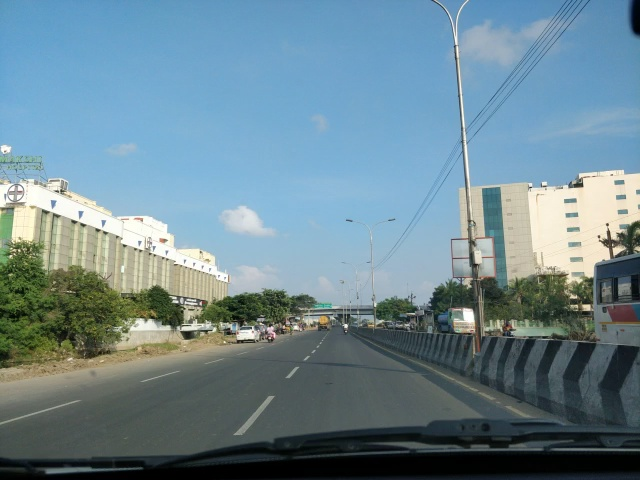bus: (589, 251, 635, 343)
car: (231, 319, 266, 349), (395, 319, 412, 332)
motorbike: (497, 315, 521, 341), (264, 321, 282, 345), (340, 318, 354, 341), (288, 322, 296, 337)
truck: (435, 308, 479, 335), (314, 312, 334, 336), (364, 319, 377, 332)
